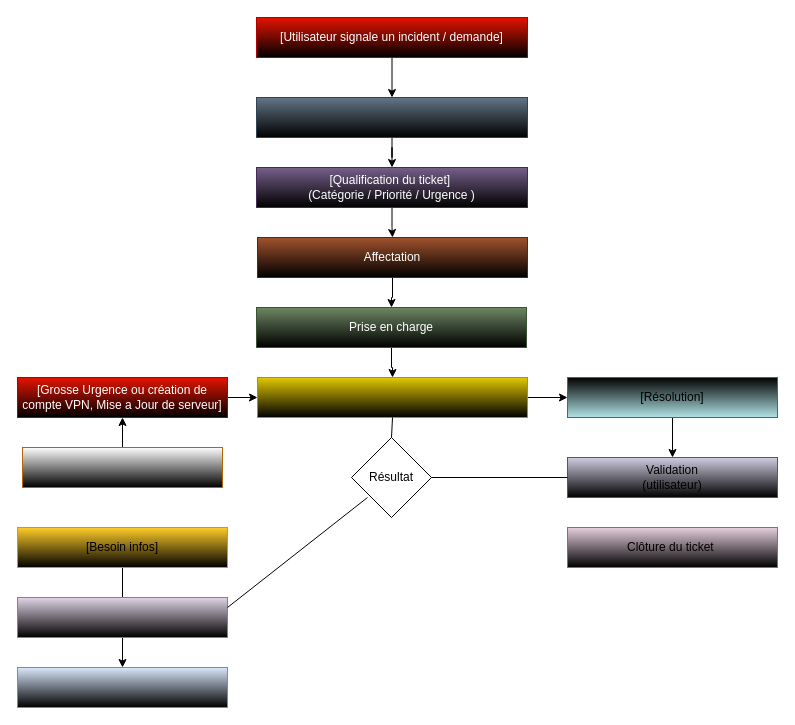
Image size: 795x725. Some labels were removed from this diagram. The centre of each missing label's shape, as x and y in pixels:
"[Création du ticket] (info de la personne Nom et Prénom)" goes at (x=392, y=117).
"Demande info utilisateur" goes at (x=122, y=617).
"Diagnostic / Traitement" goes at (x=392, y=397).
"Réponse utilisateur" goes at (x=122, y=687).
"SMA Netagis" goes at (x=122, y=467).
